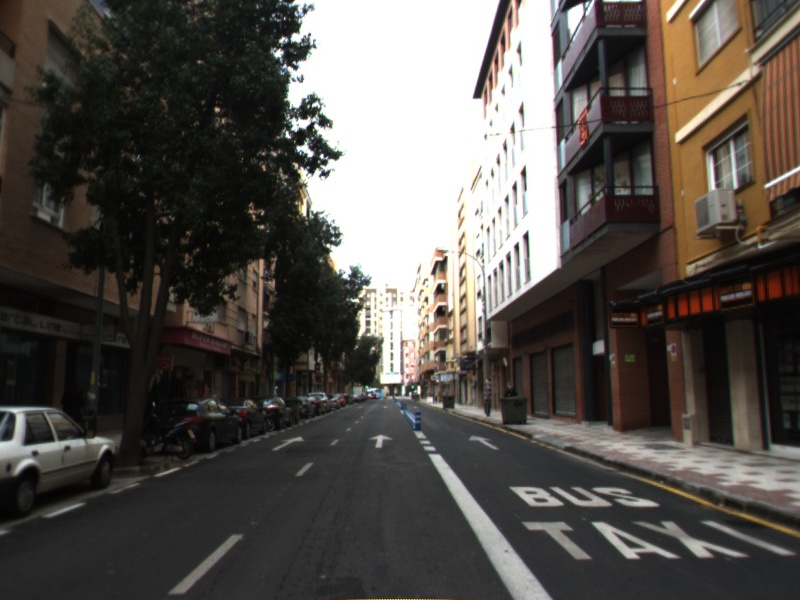STRAIGHT: (270, 434, 306, 453), (467, 433, 502, 452), (366, 432, 396, 450)
